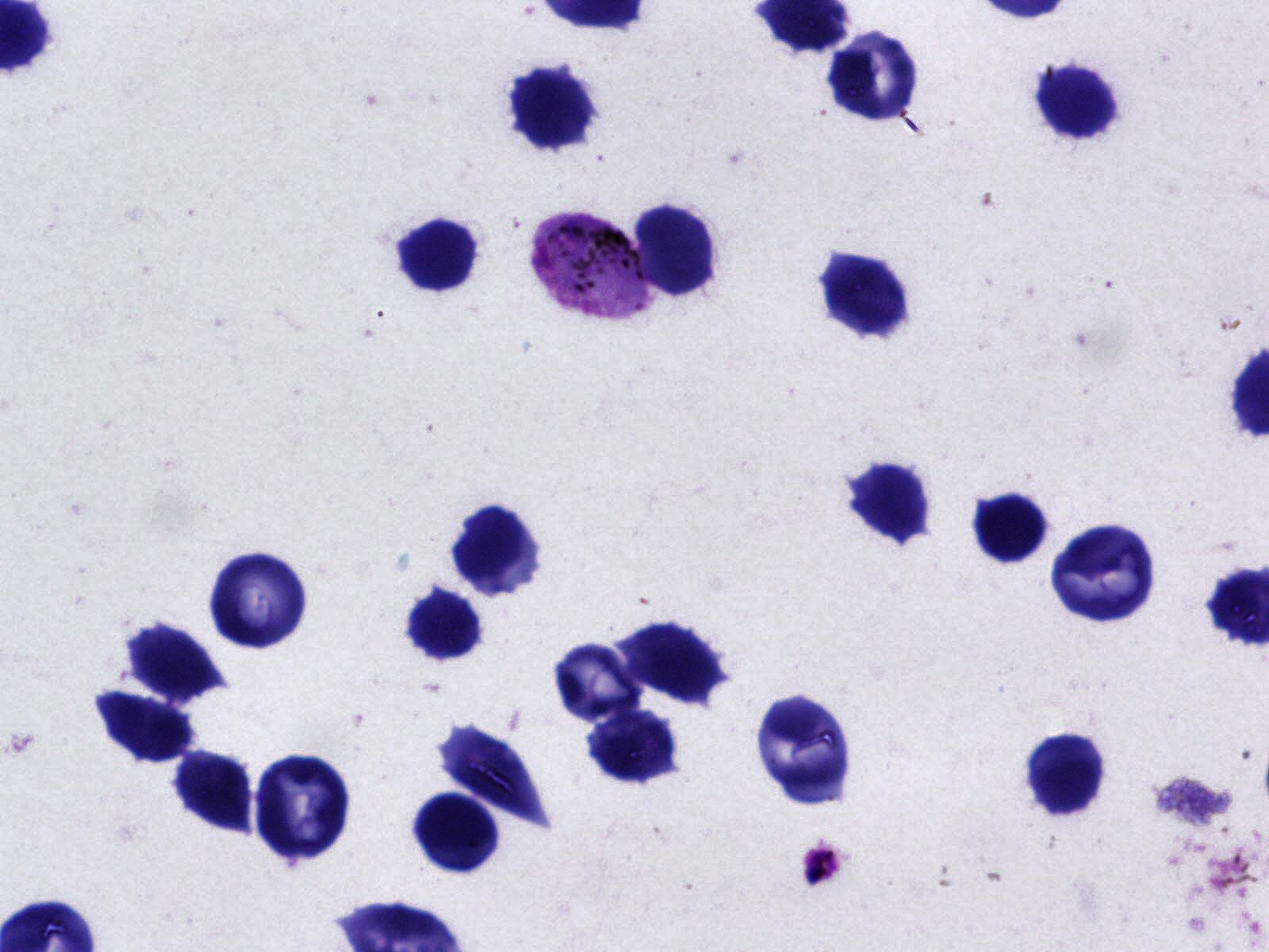Infected: (535, 213, 651, 317)
Uninfected: (440, 727, 549, 827), (1051, 524, 1153, 620), (255, 755, 348, 860), (210, 555, 305, 647), (761, 703, 847, 803), (825, 30, 918, 117), (128, 624, 224, 704), (627, 625, 720, 707), (635, 203, 716, 295), (454, 508, 541, 593), (821, 253, 908, 337), (588, 708, 681, 785), (511, 67, 596, 150), (102, 691, 196, 766), (557, 642, 646, 720), (850, 461, 933, 542), (396, 216, 481, 294), (416, 794, 499, 871), (1035, 65, 1118, 137), (974, 488, 1049, 563), (179, 749, 249, 829), (1033, 734, 1100, 816), (406, 597, 476, 659)
